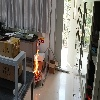fire: (33, 41, 40, 80)
